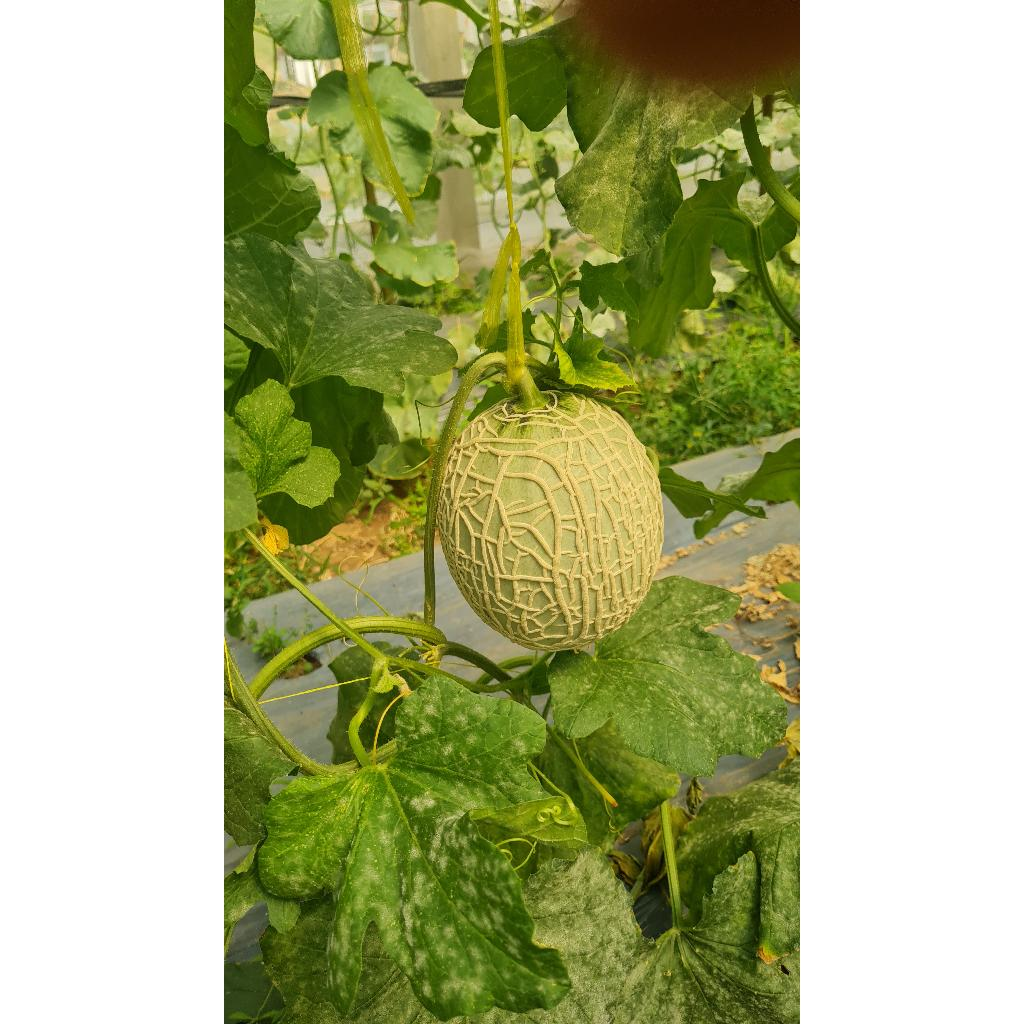melon: (438, 390, 664, 652)
